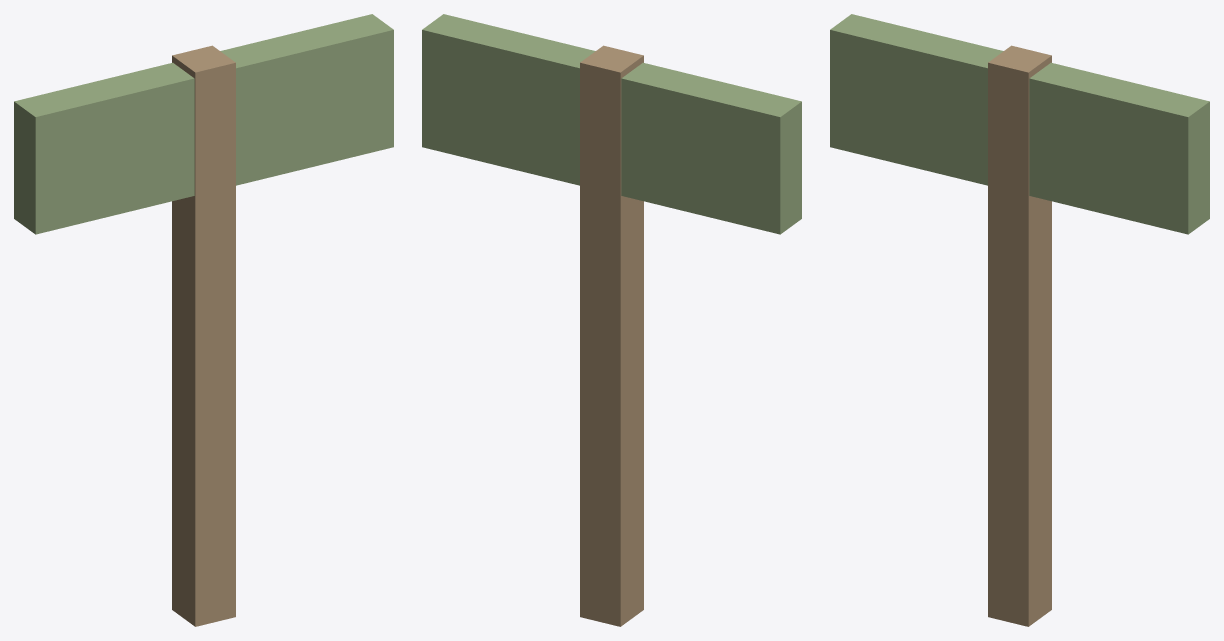
The picture shows the model from 3 angles, left to right: view 1: azimuth 30°, elevation 25°; view 2: azimuth 150°, elevation 25°; view 3: azimuth 330°, elevation 25°; orthographic projection.
Size of the model in its own units: 1.15 by 1.7 by 0.135.
